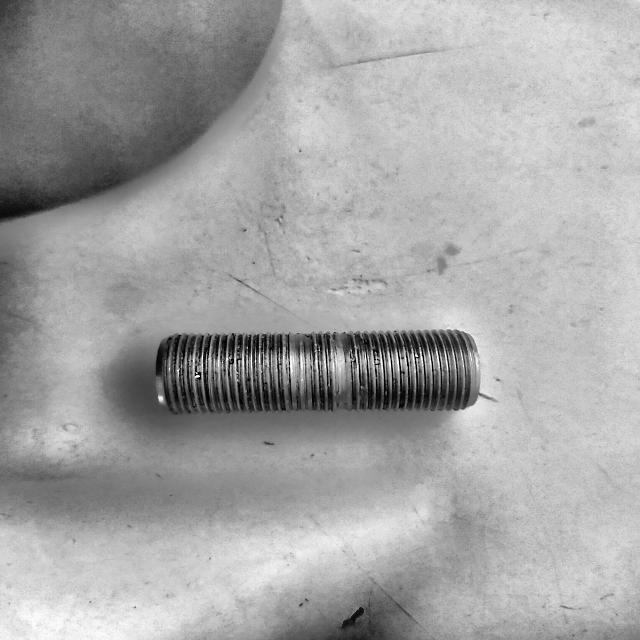Broken: (156, 328, 482, 416)
